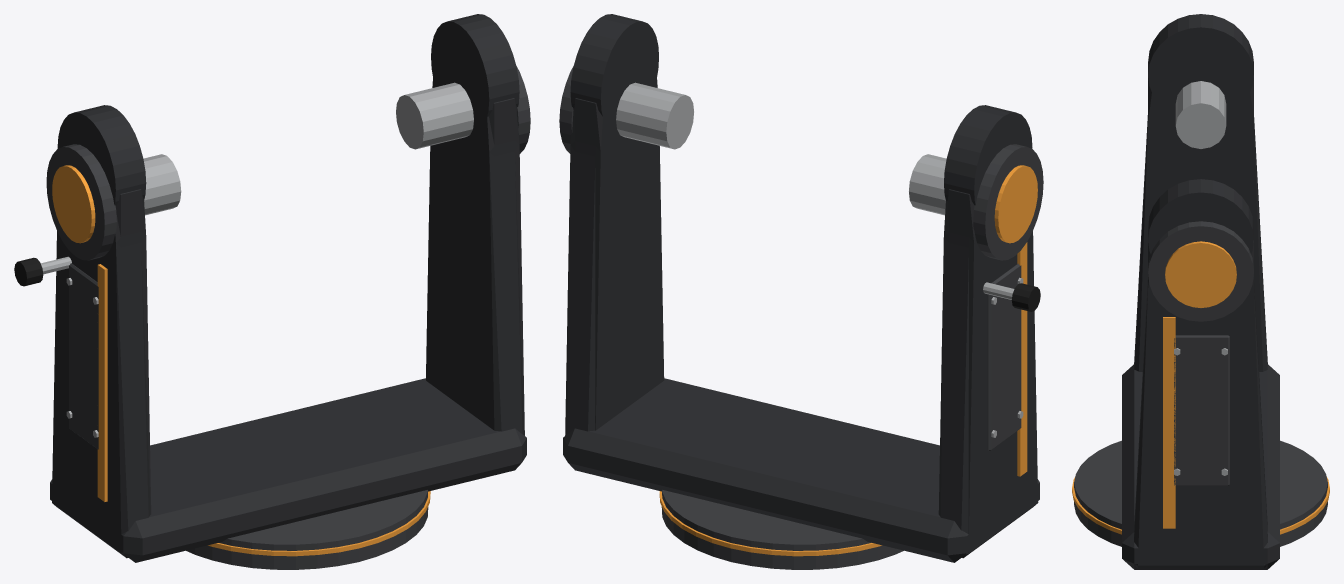
The model's file is csc_profile_p1_yoke.obj.
The picture shows the model from 3 angles, left to right: view 1: azimuth 30°, elevation 25°; view 2: azimuth 150°, elevation 25°; view 3: azimuth 270°, elevation 25°; orthographic projection. The views are drawn at different scales.
Parts seen in each view (by area): view 1: yoke_csc_2f3033, yoke_csc_3f4043, yoke_csc_adafb1, yoke_csc_f9a238, yoke_csc_1d1d1d; view 2: yoke_csc_2f3033, yoke_csc_3f4043, yoke_csc_adafb1, yoke_csc_f9a238, yoke_csc_1d1d1d; view 3: yoke_csc_2f3033, yoke_csc_3f4043, yoke_csc_f9a238, yoke_csc_adafb1.
Boxes of the visible parts, box(x1,y1,x2,y2) form: yoke_csc_2f3033: box(50, 14, 526, 562); yoke_csc_3f4043: box(46, 66, 530, 569); yoke_csc_adafb1: box(40, 82, 473, 437); yoke_csc_f9a238: box(52, 165, 430, 556); yoke_csc_1d1d1d: box(14, 257, 43, 286); yoke_csc_2f3033: box(563, 14, 1039, 562); yoke_csc_3f4043: box(559, 66, 1043, 569); yoke_csc_adafb1: box(616, 82, 1023, 437); yoke_csc_f9a238: box(659, 165, 1037, 556); yoke_csc_1d1d1d: box(1011, 283, 1040, 311); yoke_csc_2f3033: box(1122, 14, 1279, 569); yoke_csc_3f4043: box(1074, 221, 1327, 546); yoke_csc_f9a238: box(1072, 241, 1329, 534); yoke_csc_adafb1: box(1174, 81, 1227, 475).
Size of the model in its own units: 0.9022 by 0.8188 by 0.4761.
